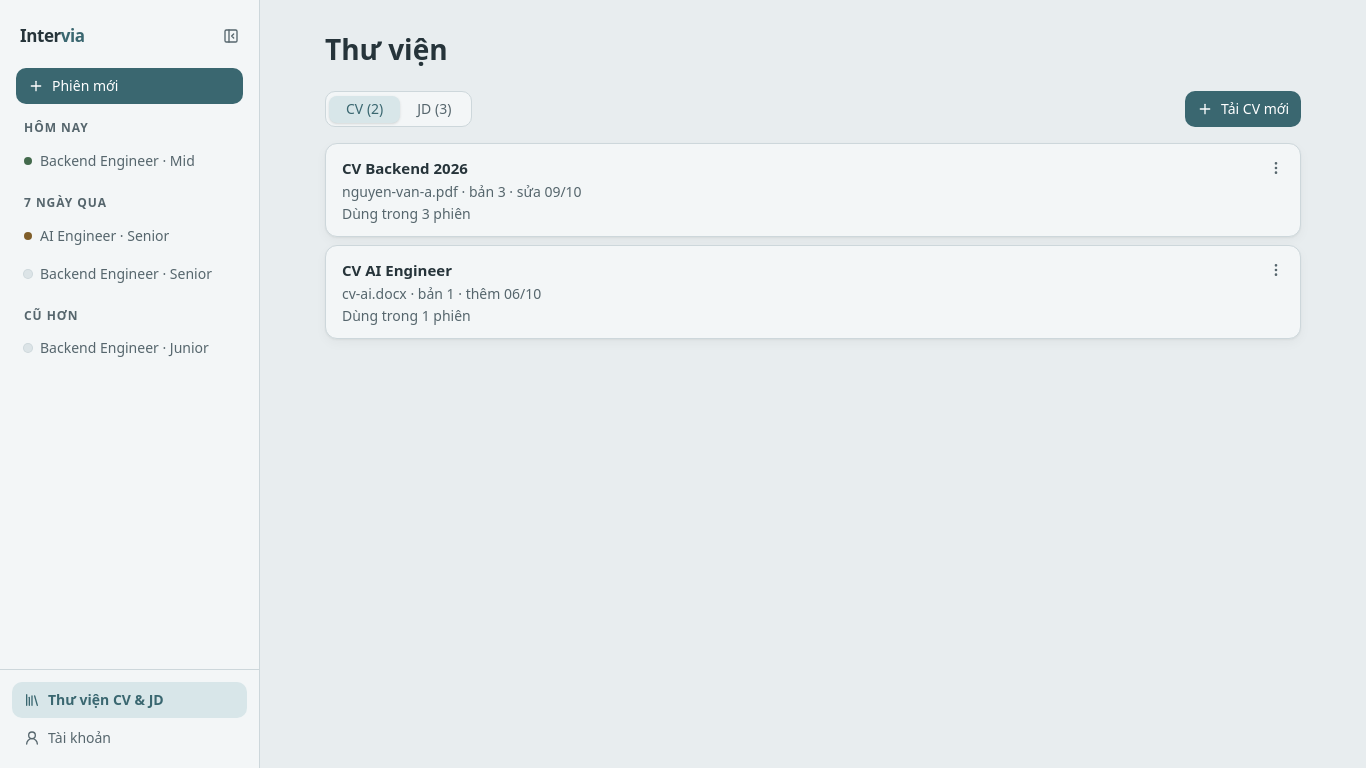
Scenario: Account page (UI-11.2) › is linked from the sidebar and shows the email and the data kept
Click the link "Tài khoản" at (68, 738), box [24,728,111,747]
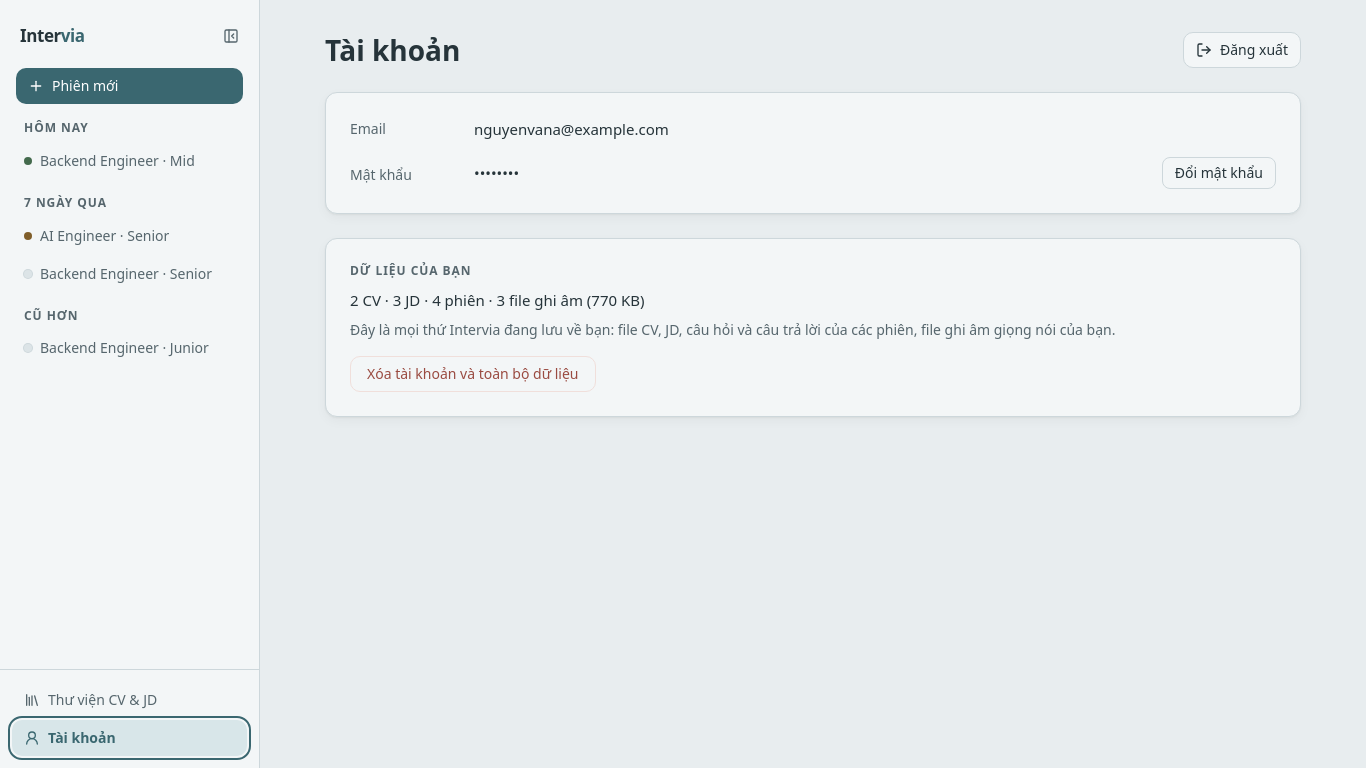
Expected: the heading "Tài khoản" is shown, [325,32,460,68]
Expected: the text "nguyenvana@example.com" is shown, [474,119,669,139]
